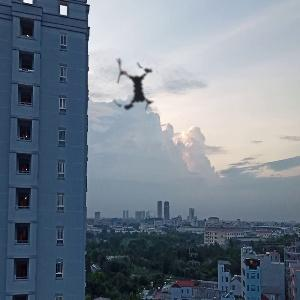drone: (87, 41, 181, 135)
